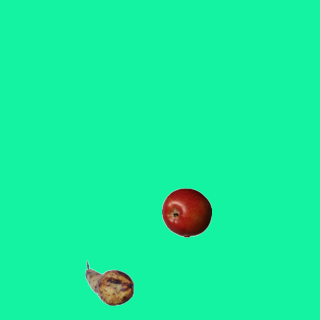Apple Braeburn: (161, 187, 211, 237)
Pear Abate: (84, 258, 134, 308)
